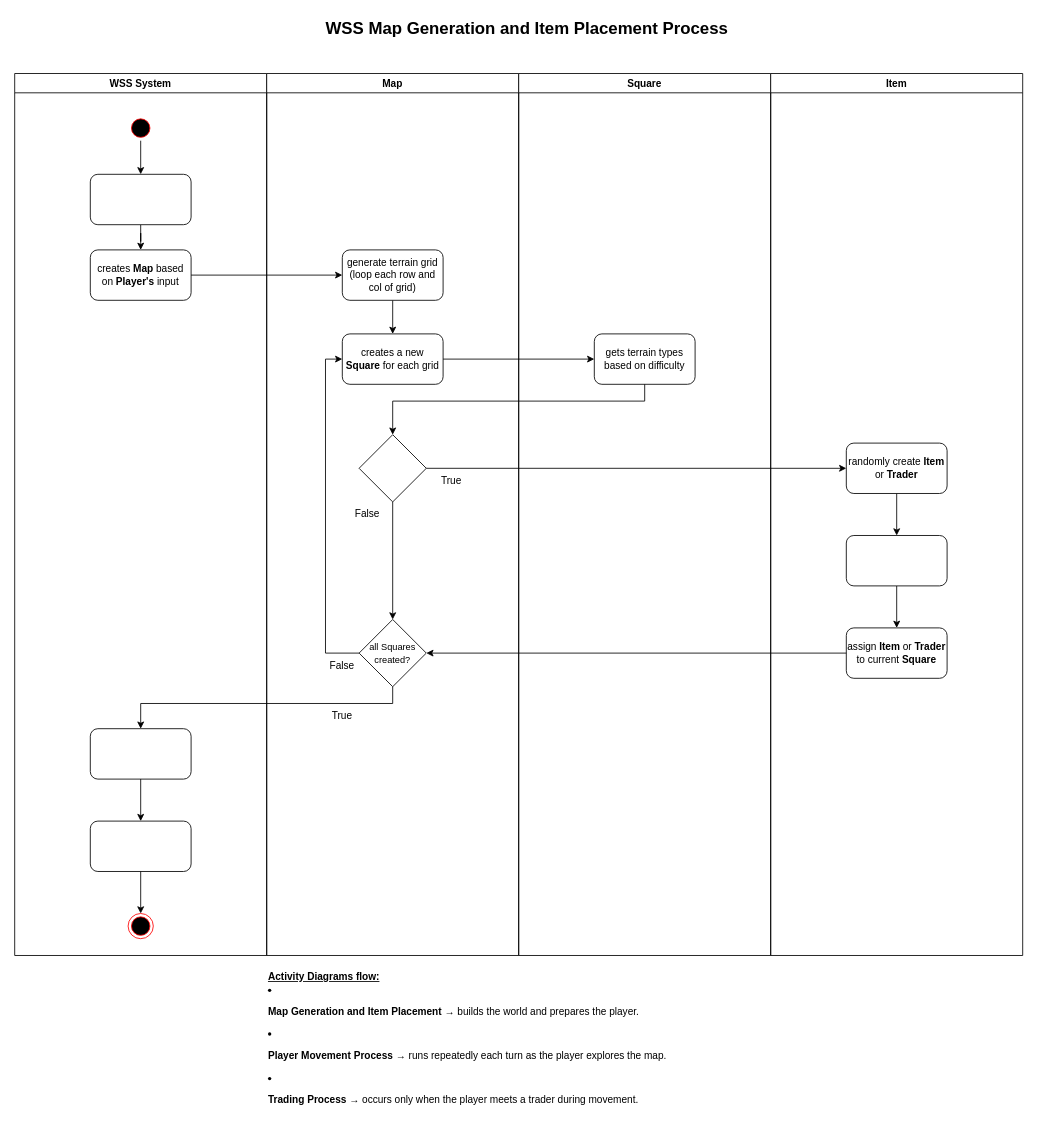
The diagram is 1037 pixels wide and 1137 high, and some of its shapes have lost their labels. Here are the shapes that lost their labels. From the top down, the centre of each, then its label:
At point (140, 199): "Player selects map size and difficulty".
At point (392, 468): "add Item or Trader ?".
At point (896, 560): "if Item , mark it as available for collection".
At point (140, 753): "initialize Player (position, stats, vision, brain)".
At point (140, 846): "Map is ready to play".
